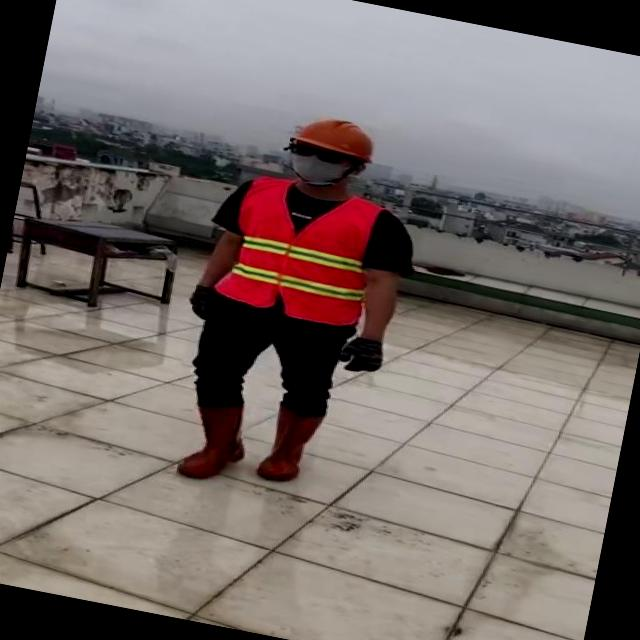boots: (174, 392, 255, 486), (249, 400, 331, 490)
gloves: (330, 329, 388, 379), (187, 284, 216, 320)
helmet: (286, 106, 388, 166)
vest: (214, 172, 394, 330)
